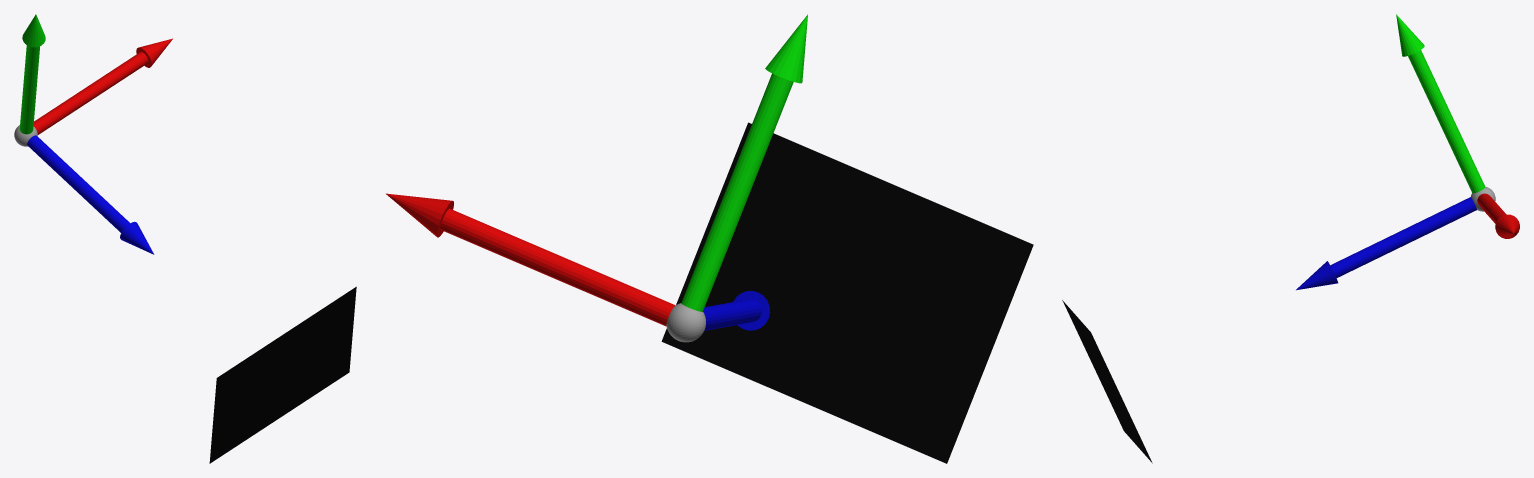
3 renders of one model, left to right at view 1: azimuth 30°, elevation 25°; view 2: azimuth 150°, elevation 25°; view 3: azimuth 270°, elevation 25°, orthographic. The views are drawn at different scales.
Bounding box in the file's own units: 0.1499 × 0.2591 × 0.2736.
